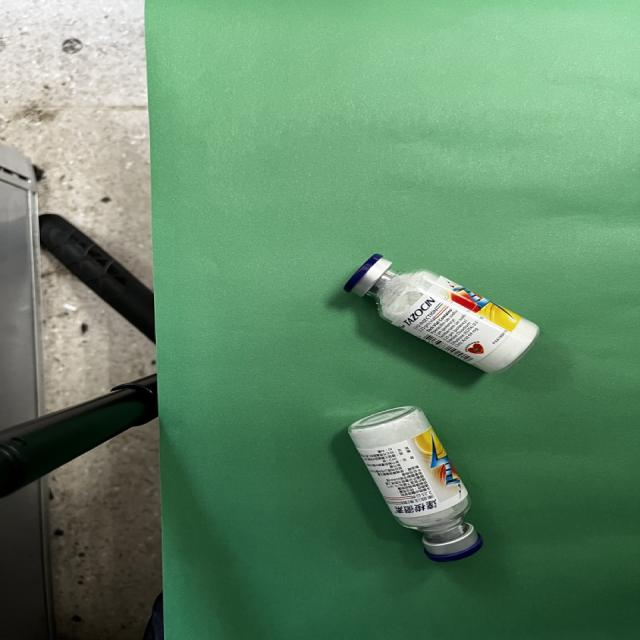Vials: (344, 255, 539, 372), (348, 406, 482, 562)
